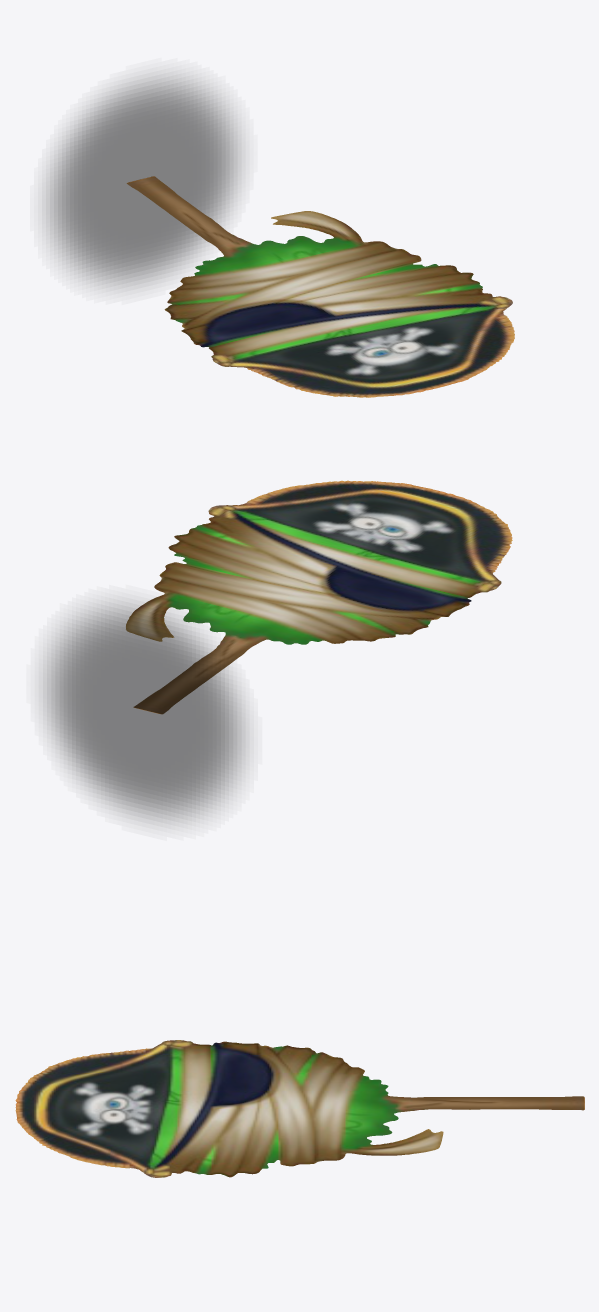
The model's file is prop_tree_small_ur.glb.
3 renders of one model, top to bottom at view 1: azimuth 30°, elevation 25°; view 2: azimuth 150°, elevation 25°; view 3: azimuth 270°, elevation 25°, orthographic. The views are drawn at different scales.
Parts seen in each view (by area): view 1: prop_leaves_small_no_box_ur__billboard, shadow_small_nobox_ur; view 2: prop_leaves_small_no_box_ur__billboard, shadow_small_nobox_ur; view 3: prop_leaves_small_no_box_ur__billboard.
Part boxes in pixels (x1=…): prop_leaves_small_no_box_ur__billboard: x1=126, y1=176, x2=514, y2=397; shadow_small_nobox_ur: x1=46, y1=75, x2=241, y2=288; prop_leaves_small_no_box_ur__billboard: x1=126, y1=480, x2=512, y2=714; shadow_small_nobox_ur: x1=43, y1=602, x2=245, y2=823; prop_leaves_small_no_box_ur__billboard: x1=15, y1=1040, x2=584, y2=1177.
Size of the model in its own units: 13.93 by 12.32 by 24.15.
2 materials, 2 textured.
